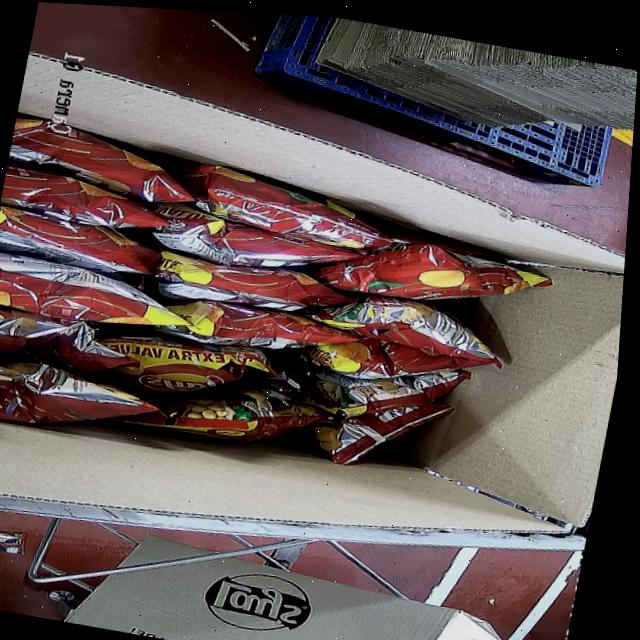MASALA: (0, 112, 569, 512)
